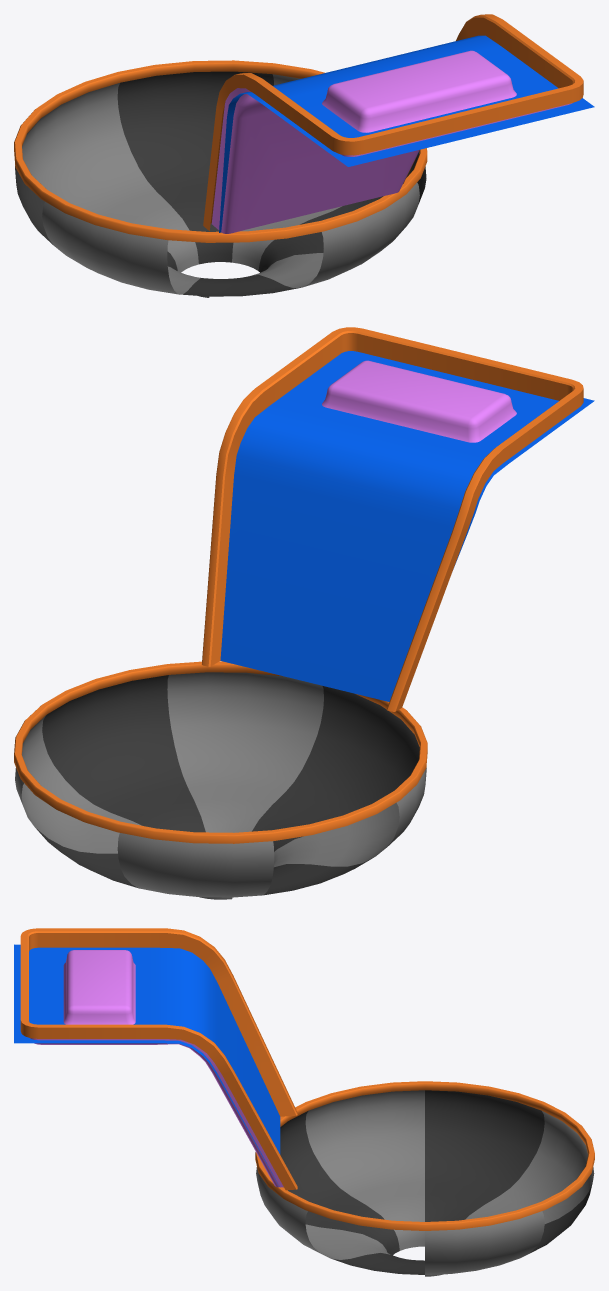
Rendered from MDL_Bowl_slider.fbx.
3 views of the same model, one above another, from view 1: azimuth 30°, elevation 25°; view 2: azimuth 150°, elevation 25°; view 3: azimuth 270°, elevation 25° (orthographic). The views are drawn at different scales.
Parts seen in each view (by area): view 1: Cylinder004, slider02, MDL_Island_Slider__1_004, MDL_Island_Slider_R__1_004, bowl_border; view 2: Cylinder004, MDL_Island_Slider_R__1_004, MDL_Island_Slider__1_004, slider02, bowl_border; view 3: Cylinder004, MDL_Island_Slider_R__1_004, MDL_Island_Slider__1_004, slider02, bowl_border.
Boxes of the visible parts, left/top/right/bottom form: Cylinder004: left=15, top=71, right=426, bottom=297; slider02: left=211, top=50, right=572, bottom=233; MDL_Island_Slider__1_004: left=203, top=14, right=583, bottom=230; MDL_Island_Slider_R__1_004: left=219, top=35, right=594, bottom=232; bowl_border: left=14, top=60, right=427, bottom=242; Cylinder004: left=15, top=672, right=426, bottom=899; MDL_Island_Slider_R__1_004: left=220, top=351, right=594, bottom=701; MDL_Island_Slider__1_004: left=202, top=327, right=583, bottom=711; slider02: left=322, top=360, right=516, bottom=442; bowl_border: left=14, top=661, right=427, bottom=843; Cylinder004: left=256, top=1090, right=594, bottom=1276; MDL_Island_Slider_R__1_004: left=14, top=944, right=280, bottom=1186; MDL_Island_Slider__1_004: left=20, top=928, right=297, bottom=1190; slider02: left=30, top=950, right=283, bottom=1187; bowl_border: left=255, top=1081, right=594, bottom=1230.
Size of the model in its own units: 718 by 661 by 1227.
